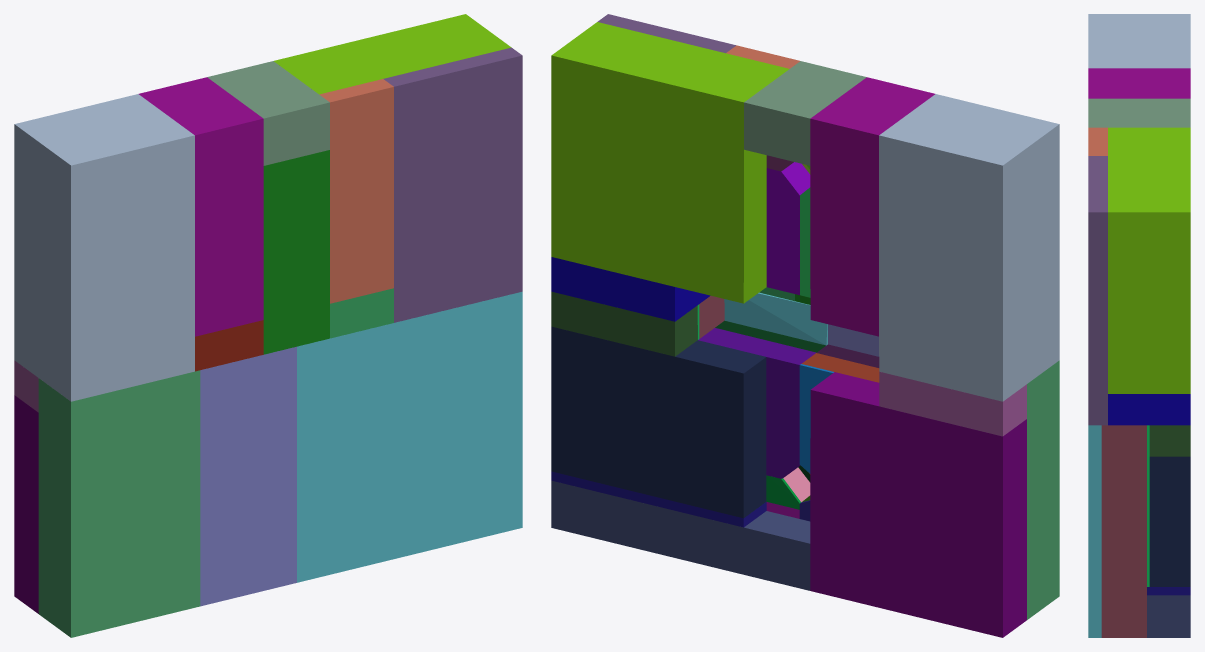
The model's file is board_2_0_canonical.obj.
3 renders of one model, left to right at view 1: azimuth 30°, elevation 25°; view 2: azimuth 150°, elevation 25°; view 3: azimuth 270°, elevation 25°, orthographic. The views are drawn at different scales.
Visible parts, largest first — view 1: geometry_2, geometry_6, geometry_3, geometry_1, geometry_12, geometry_14, geometry_9, geometry_8, geometry_4, geometry_0, geometry_11, geometry_15 (+2 smaller); view 2: geometry_4, geometry_6, geometry_11, geometry_21, geometry_14, geometry_16, geometry_3, geometry_0, geometry_27, geometry_7, geometry_19, geometry_5 (+13 smaller); view 3: geometry_4, geometry_13, geometry_6, geometry_21, geometry_1, geometry_14, geometry_0, geometry_2, geometry_5, geometry_16, geometry_19, geometry_9 (+2 smaller).
Boxes of the visible parts, x1,y1,x2,y2 form: geometry_2: (297,291,522,582); geometry_6: (14,94,194,401); geometry_3: (38,370,200,637); geometry_1: (383,47,522,322); geometry_12: (200,346,296,606); geometry_14: (139,77,263,336); geometry_9: (319,79,393,303); geometry_8: (263,150,329,354); geometry_4: (274,14,511,94); geometry_0: (207,61,329,165); geometry_11: (14,395,38,613); geometry_15: (195,320,263,371); geometry_4: (551,22,788,303); geometry_6: (879,94,1059,401); geometry_11: (810,372,1026,637); geometry_21: (551,326,766,518); geometry_14: (810,77,934,336); geometry_16: (551,480,810,590); geometry_3: (1027,360,1059,619); geometry_0: (744,61,866,165); geometry_27: (698,328,816,478); geometry_7: (879,371,1026,436); geometry_19: (551,291,697,356); geometry_5: (551,257,710,321); geometry_4: (1108,127,1190,393); geometry_13: (1101,425,1146,637); geometry_6: (1088,14,1190,68); geometry_21: (1149,456,1190,586); geometry_1: (1088,156,1107,425); geometry_14: (1088,68,1190,98); geometry_0: (1088,98,1190,127); geometry_2: (1088,425,1101,637); geometry_5: (1108,394,1190,425); geometry_16: (1147,595,1190,637); geometry_19: (1149,425,1190,456); geometry_9: (1088,127,1107,155).
Bounding box in the file's own units: 0.23 × 0.23 × 0.05.
